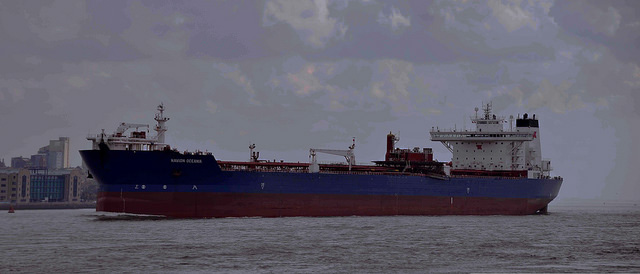tanker: (80, 104, 565, 215)
